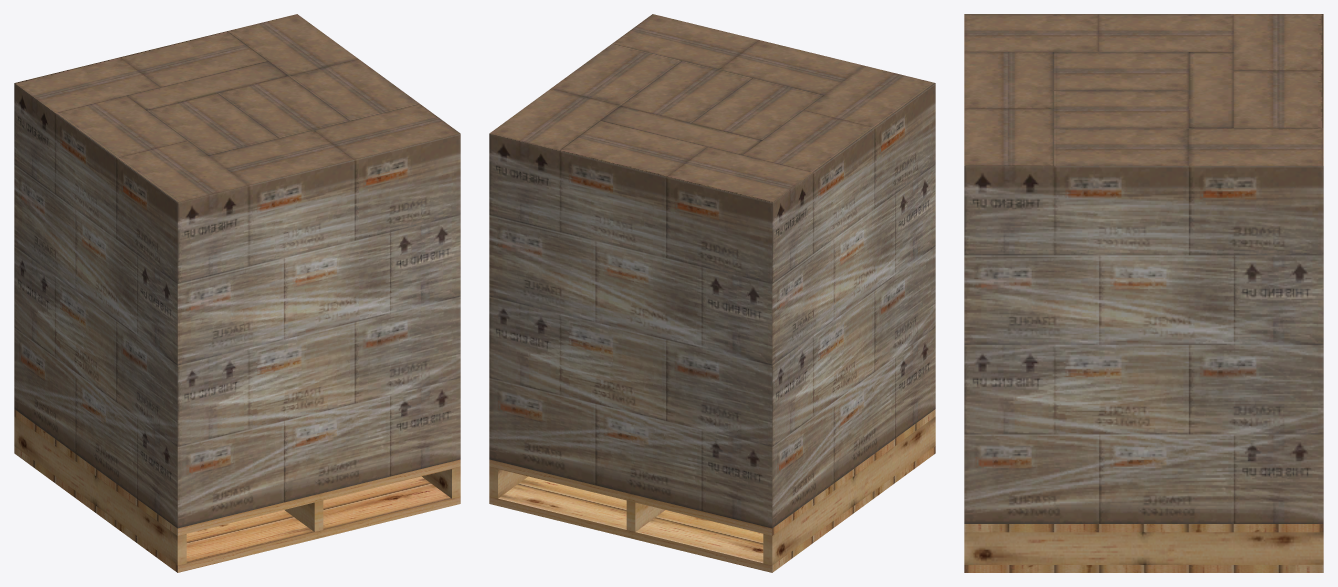
File: palletboxes2.fbx
3 renders of one model, left to right at view 1: azimuth 30°, elevation 25°; view 2: azimuth 150°, elevation 25°; view 3: azimuth 270°, elevation 25°, orthographic. The views are drawn at different scales.
Visible parts, largest first — view 1: mesh_0; view 2: mesh_0; view 3: mesh_0.
Boxes of the visible parts, x1=… form: mesh_0: x1=14, y1=14, x2=460, y2=572; mesh_0: x1=489, y1=14, x2=935, y2=572; mesh_0: x1=964, y1=14, x2=1323, y2=572.
Size of the model in its own units: 160 by 200 by 160.
Materials: 1 (1 with a texture image).
